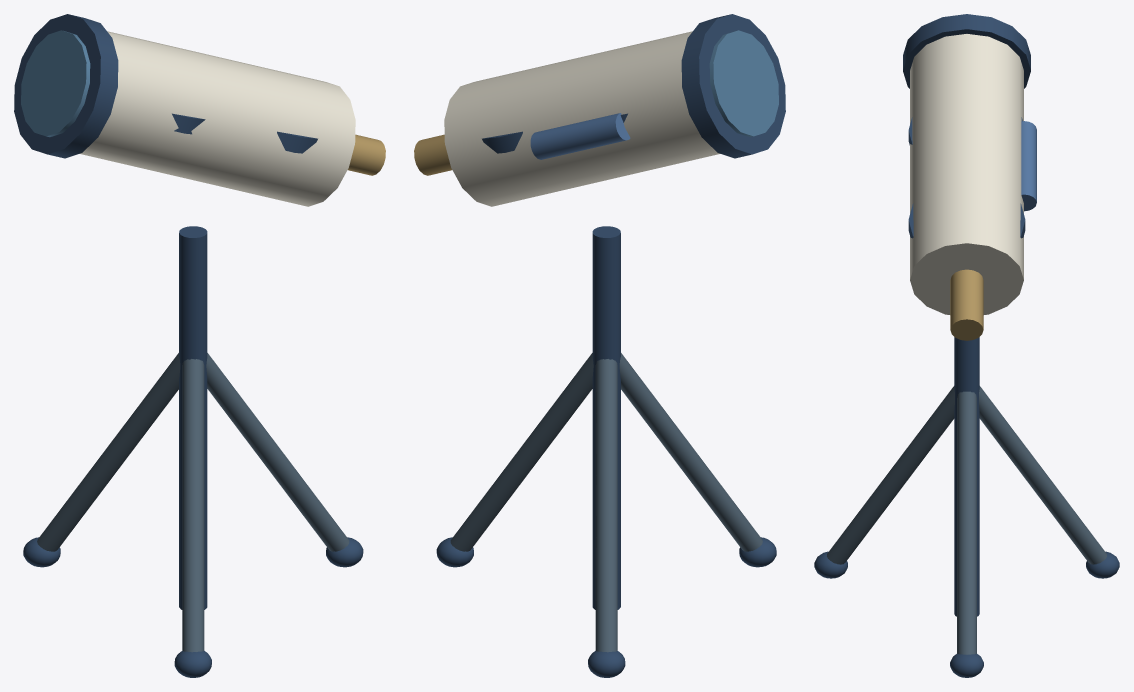
File: v18_special_telescope.glb
3 renders of one model, left to right at view 1: azimuth 30°, elevation 25°; view 2: azimuth 150°, elevation 25°; view 3: azimuth 270°, elevation 25°, orthographic. The views are drawn at different scales.
Parts seen in each view (by area): view 1: _MeshInstance3D_4931, _MeshInstance3D_4927, _MeshInstance3D_4932, _MeshInstance3D_4924, _MeshInstance3D_4933, _MeshInstance3D_4929, _MeshInstance3D_4925, _MeshInstance3D_4934, _MeshInstance3D_4928, _MeshInstance3D_4930, _MeshInstance3D_4926, _MeshInstance3D_4937; view 2: _MeshInstance3D_4931, _MeshInstance3D_4929, _MeshInstance3D_4932, _MeshInstance3D_4924, _MeshInstance3D_4933, _MeshInstance3D_4927, _MeshInstance3D_4925, _MeshInstance3D_4935, _MeshInstance3D_4934, _MeshInstance3D_4930, _MeshInstance3D_4928, _MeshInstance3D_4926 (+1 smaller); view 3: _MeshInstance3D_4931, _MeshInstance3D_4925, _MeshInstance3D_4927, _MeshInstance3D_4929, _MeshInstance3D_4932, _MeshInstance3D_4924, _MeshInstance3D_4934, _MeshInstance3D_4935, _MeshInstance3D_4926, _MeshInstance3D_4928, _MeshInstance3D_4930.
Part boxes in pixels (x1,y1,x2,y2): _MeshInstance3D_4931: (79,31,355,206); _MeshInstance3D_4927: (182,359,204,652); _MeshInstance3D_4932: (14,14,118,158); _MeshInstance3D_4924: (179,226,207,609); _MeshInstance3D_4933: (21,30,90,137); _MeshInstance3D_4929: (37,353,180,551); _MeshInstance3D_4925: (206,353,349,551); _MeshInstance3D_4934: (348,134,385,175); _MeshInstance3D_4928: (174,651,211,677); _MeshInstance3D_4930: (23,537,60,567); _MeshInstance3D_4926: (326,537,363,567); _MeshInstance3D_4937: (277,131,317,153); _MeshInstance3D_4931: (444,31,720,206); _MeshInstance3D_4929: (595,359,617,652); _MeshInstance3D_4932: (681,14,785,158); _MeshInstance3D_4924: (592,226,620,609); _MeshInstance3D_4933: (709,30,778,137); _MeshInstance3D_4927: (619,353,762,551); _MeshInstance3D_4925: (450,353,593,551); _MeshInstance3D_4935: (530,113,630,159); _MeshInstance3D_4934: (414,134,451,175); _MeshInstance3D_4930: (588,651,625,677); _MeshInstance3D_4928: (739,537,776,567); _MeshInstance3D_4926: (436,537,473,567); _MeshInstance3D_4931: (910,34,1023,314); _MeshInstance3D_4925: (957,391,976,654); _MeshInstance3D_4927: (827,386,954,564); _MeshInstance3D_4929: (979,386,1106,564); _MeshInstance3D_4932: (903,14,1030,88); _MeshInstance3D_4924: (954,337,979,616); _MeshInstance3D_4934: (950,269,983,340); _MeshInstance3D_4935: (1021,121,1036,211); _MeshInstance3D_4926: (950,653,983,677); _MeshInstance3D_4928: (814,551,847,578); _MeshInstance3D_4930: (1086,551,1119,578).
Size of the model in its own units: 1.43 by 2.4 by 1.2.
